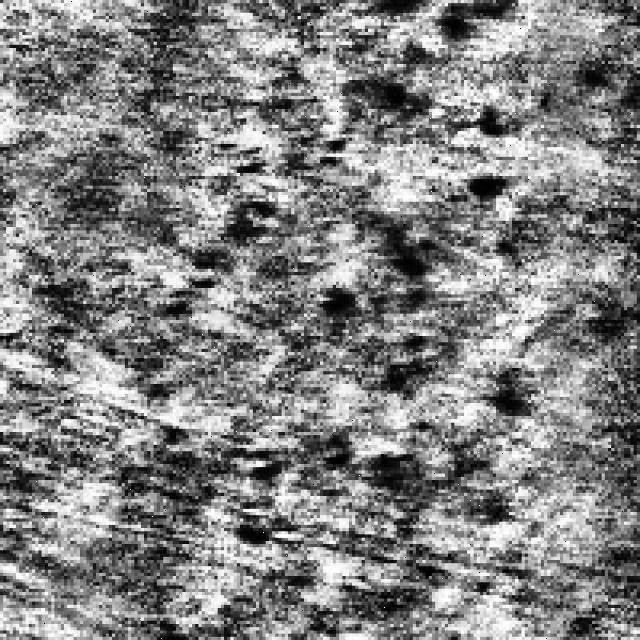Crazing: (233, 179, 444, 541)
